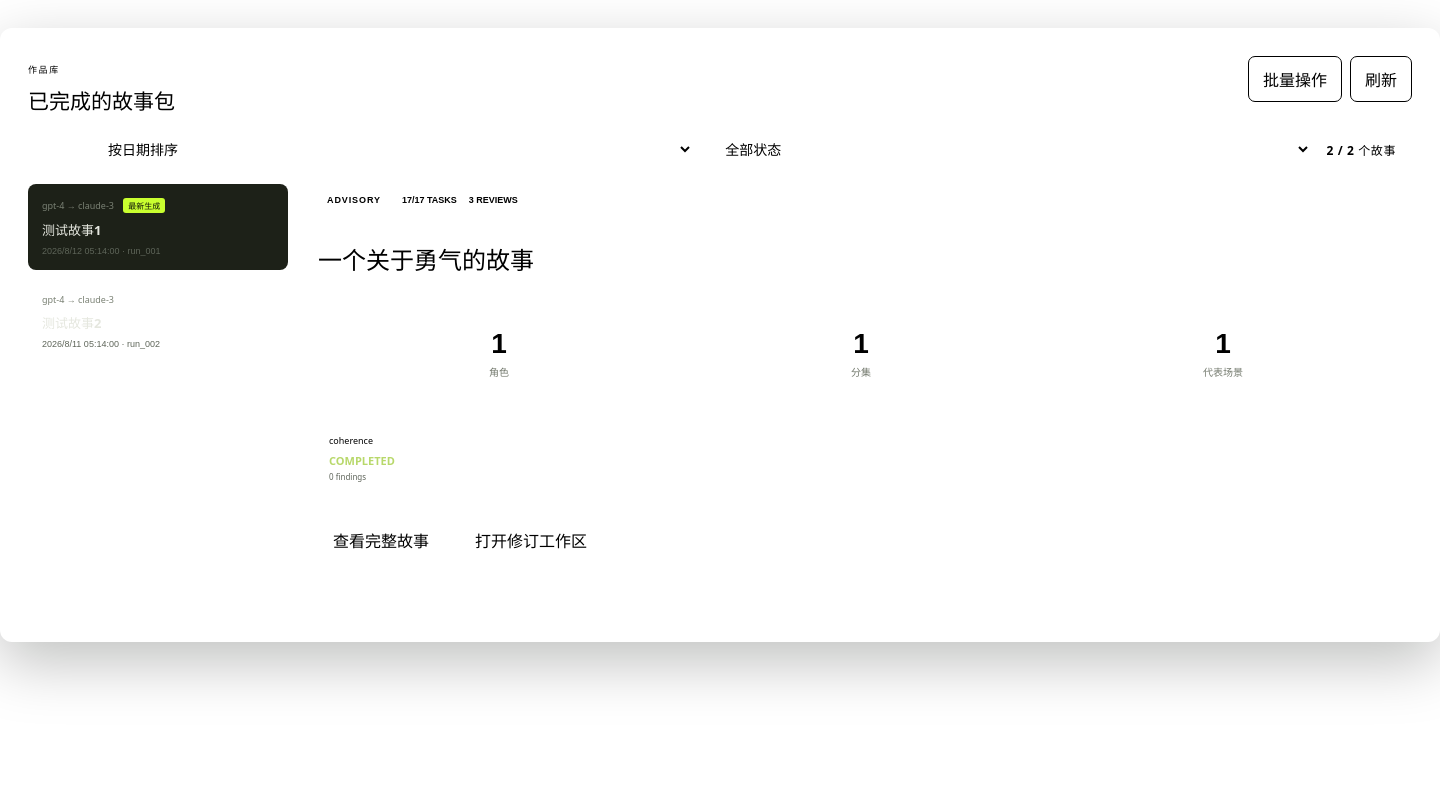
ArtifactBrowser › 阅读模式 › 应该显示分集内容
Click the button "查看完整故事" at (381, 540), box [318,517,444,563]
(page scrolled)
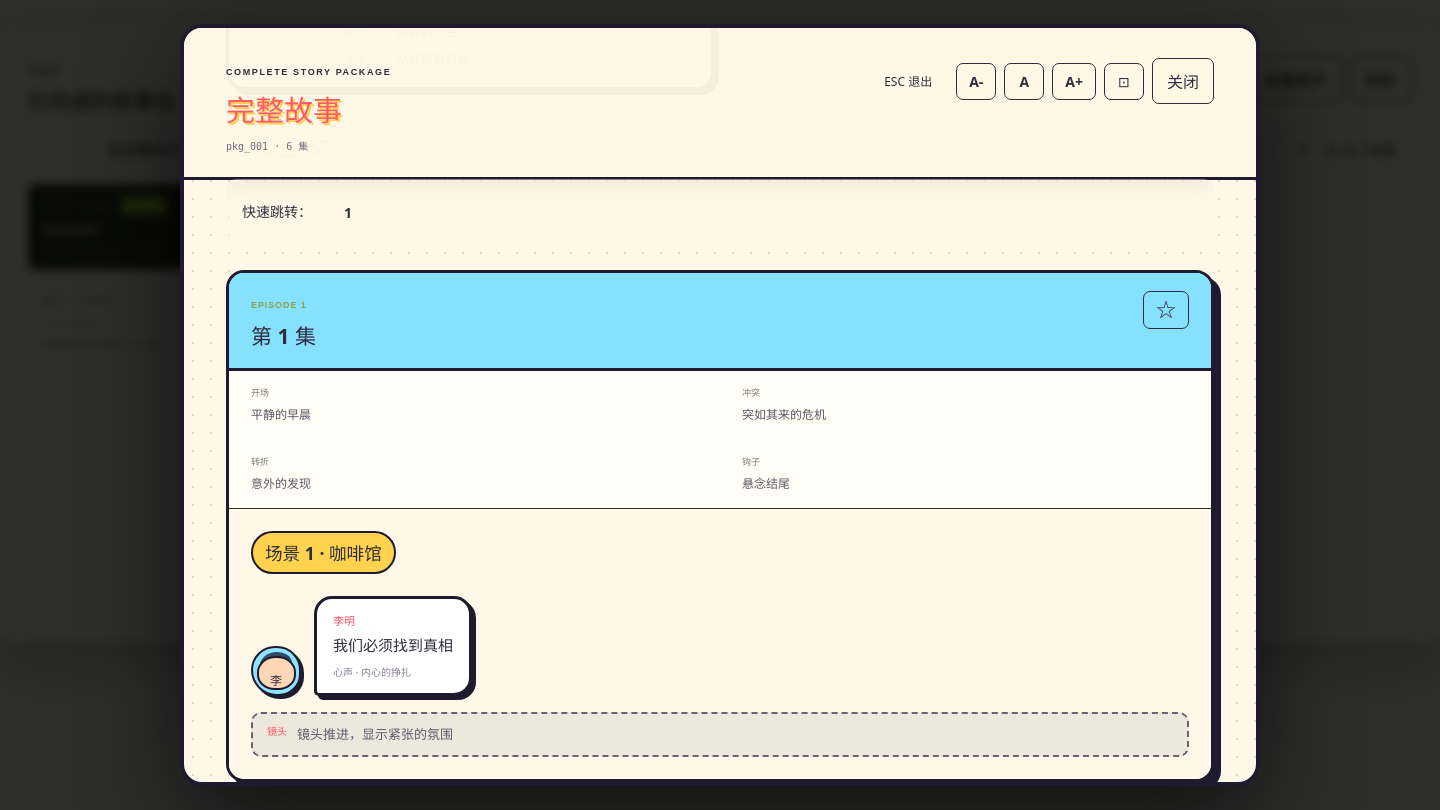
Expected: the heading "第 1 集" is shown, [251,322,316,350]
Expected: the text "开场 平静的早晨" is shown, [229,371,720,440]
Expected: the text "冲突 突如其来的危机" is shown, [720,371,1211,440]
